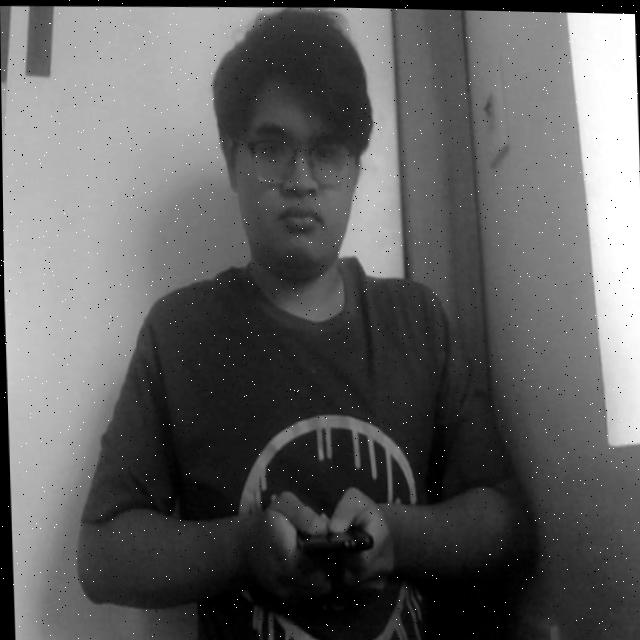phone: (283, 499, 378, 587)
